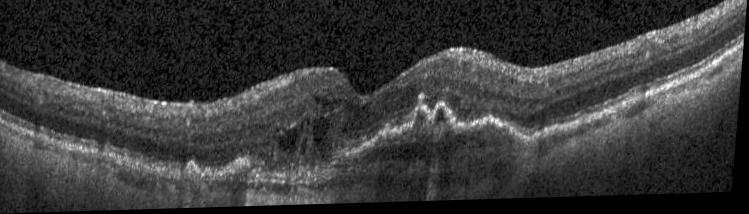intraretinal_cyst: (344, 104, 385, 133), (281, 128, 300, 154), (315, 118, 332, 147), (315, 98, 332, 108), (302, 139, 309, 157)
subretinal_hyperreflective_material: (333, 104, 535, 177), (185, 159, 290, 185)
